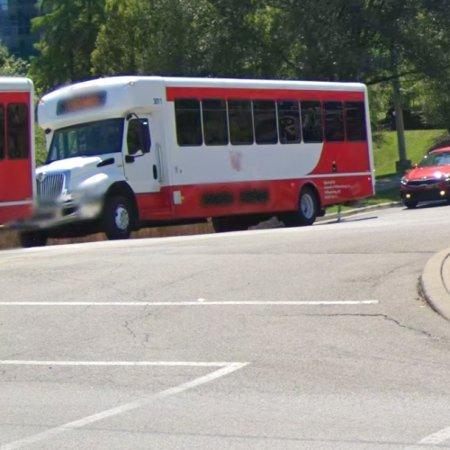buses: (14, 76, 375, 246)
